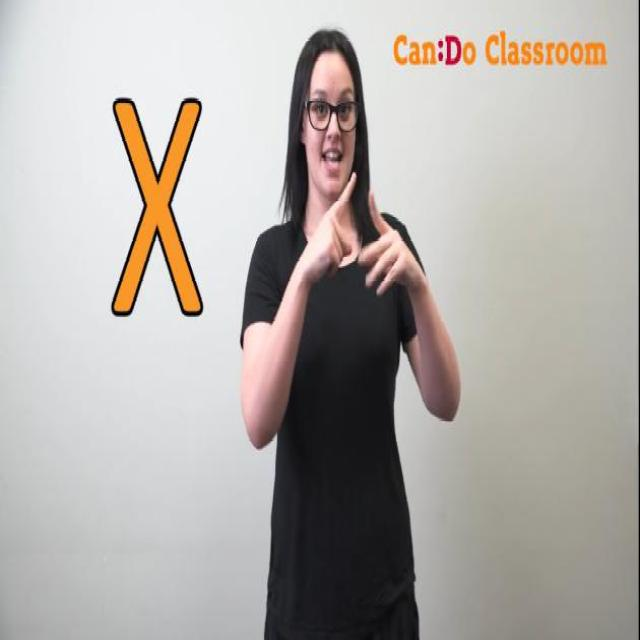X: (315, 164, 410, 320)
